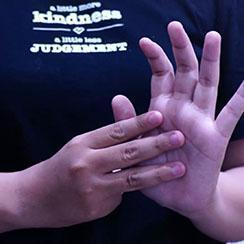M: (1, 0, 244, 243)
